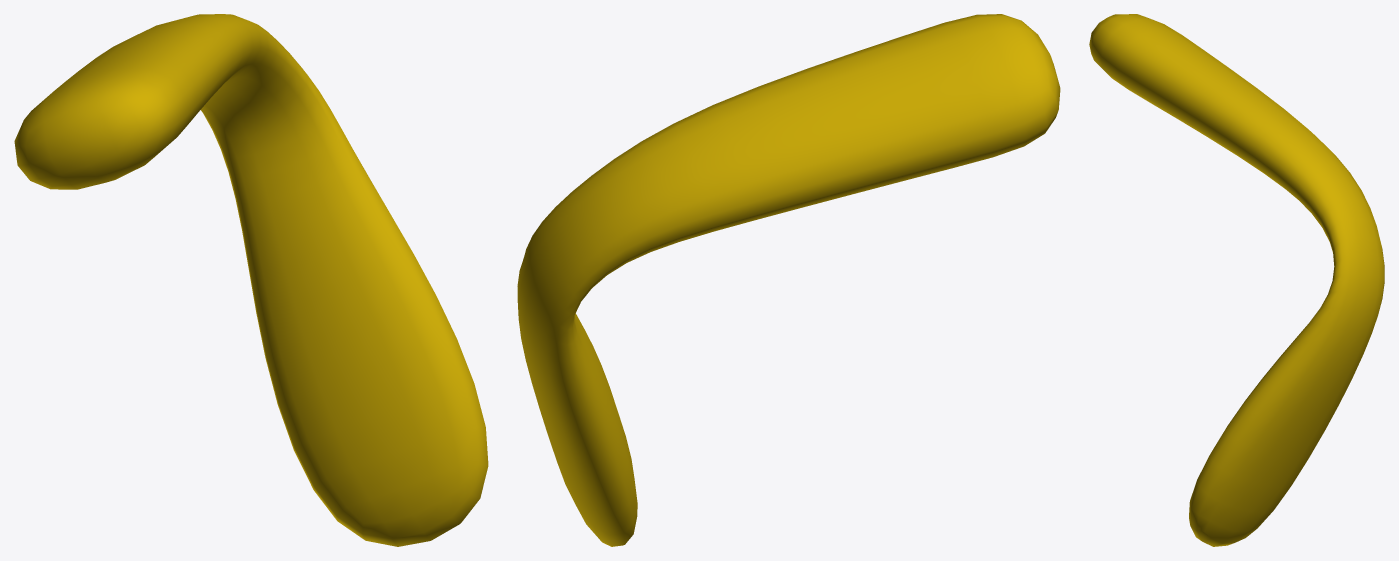
3 views of the same model, side by side, from view 1: azimuth 30°, elevation 25°; view 2: azimuth 150°, elevation 25°; view 3: azimuth 270°, elevation 25° (orthographic). The views are drawn at different scales.
Visible parts, largest first — view 1: Cube.1438; view 2: Cube.1438; view 3: Cube.1438.
Boxes of the visible parts, x1,y1,x2,y2 form: Cube.1438: [14, 14, 488, 546]; Cube.1438: [517, 14, 1060, 546]; Cube.1438: [1089, 14, 1384, 546].
Size of the model in its own units: 0.2183 by 0.249 by 0.1632.
